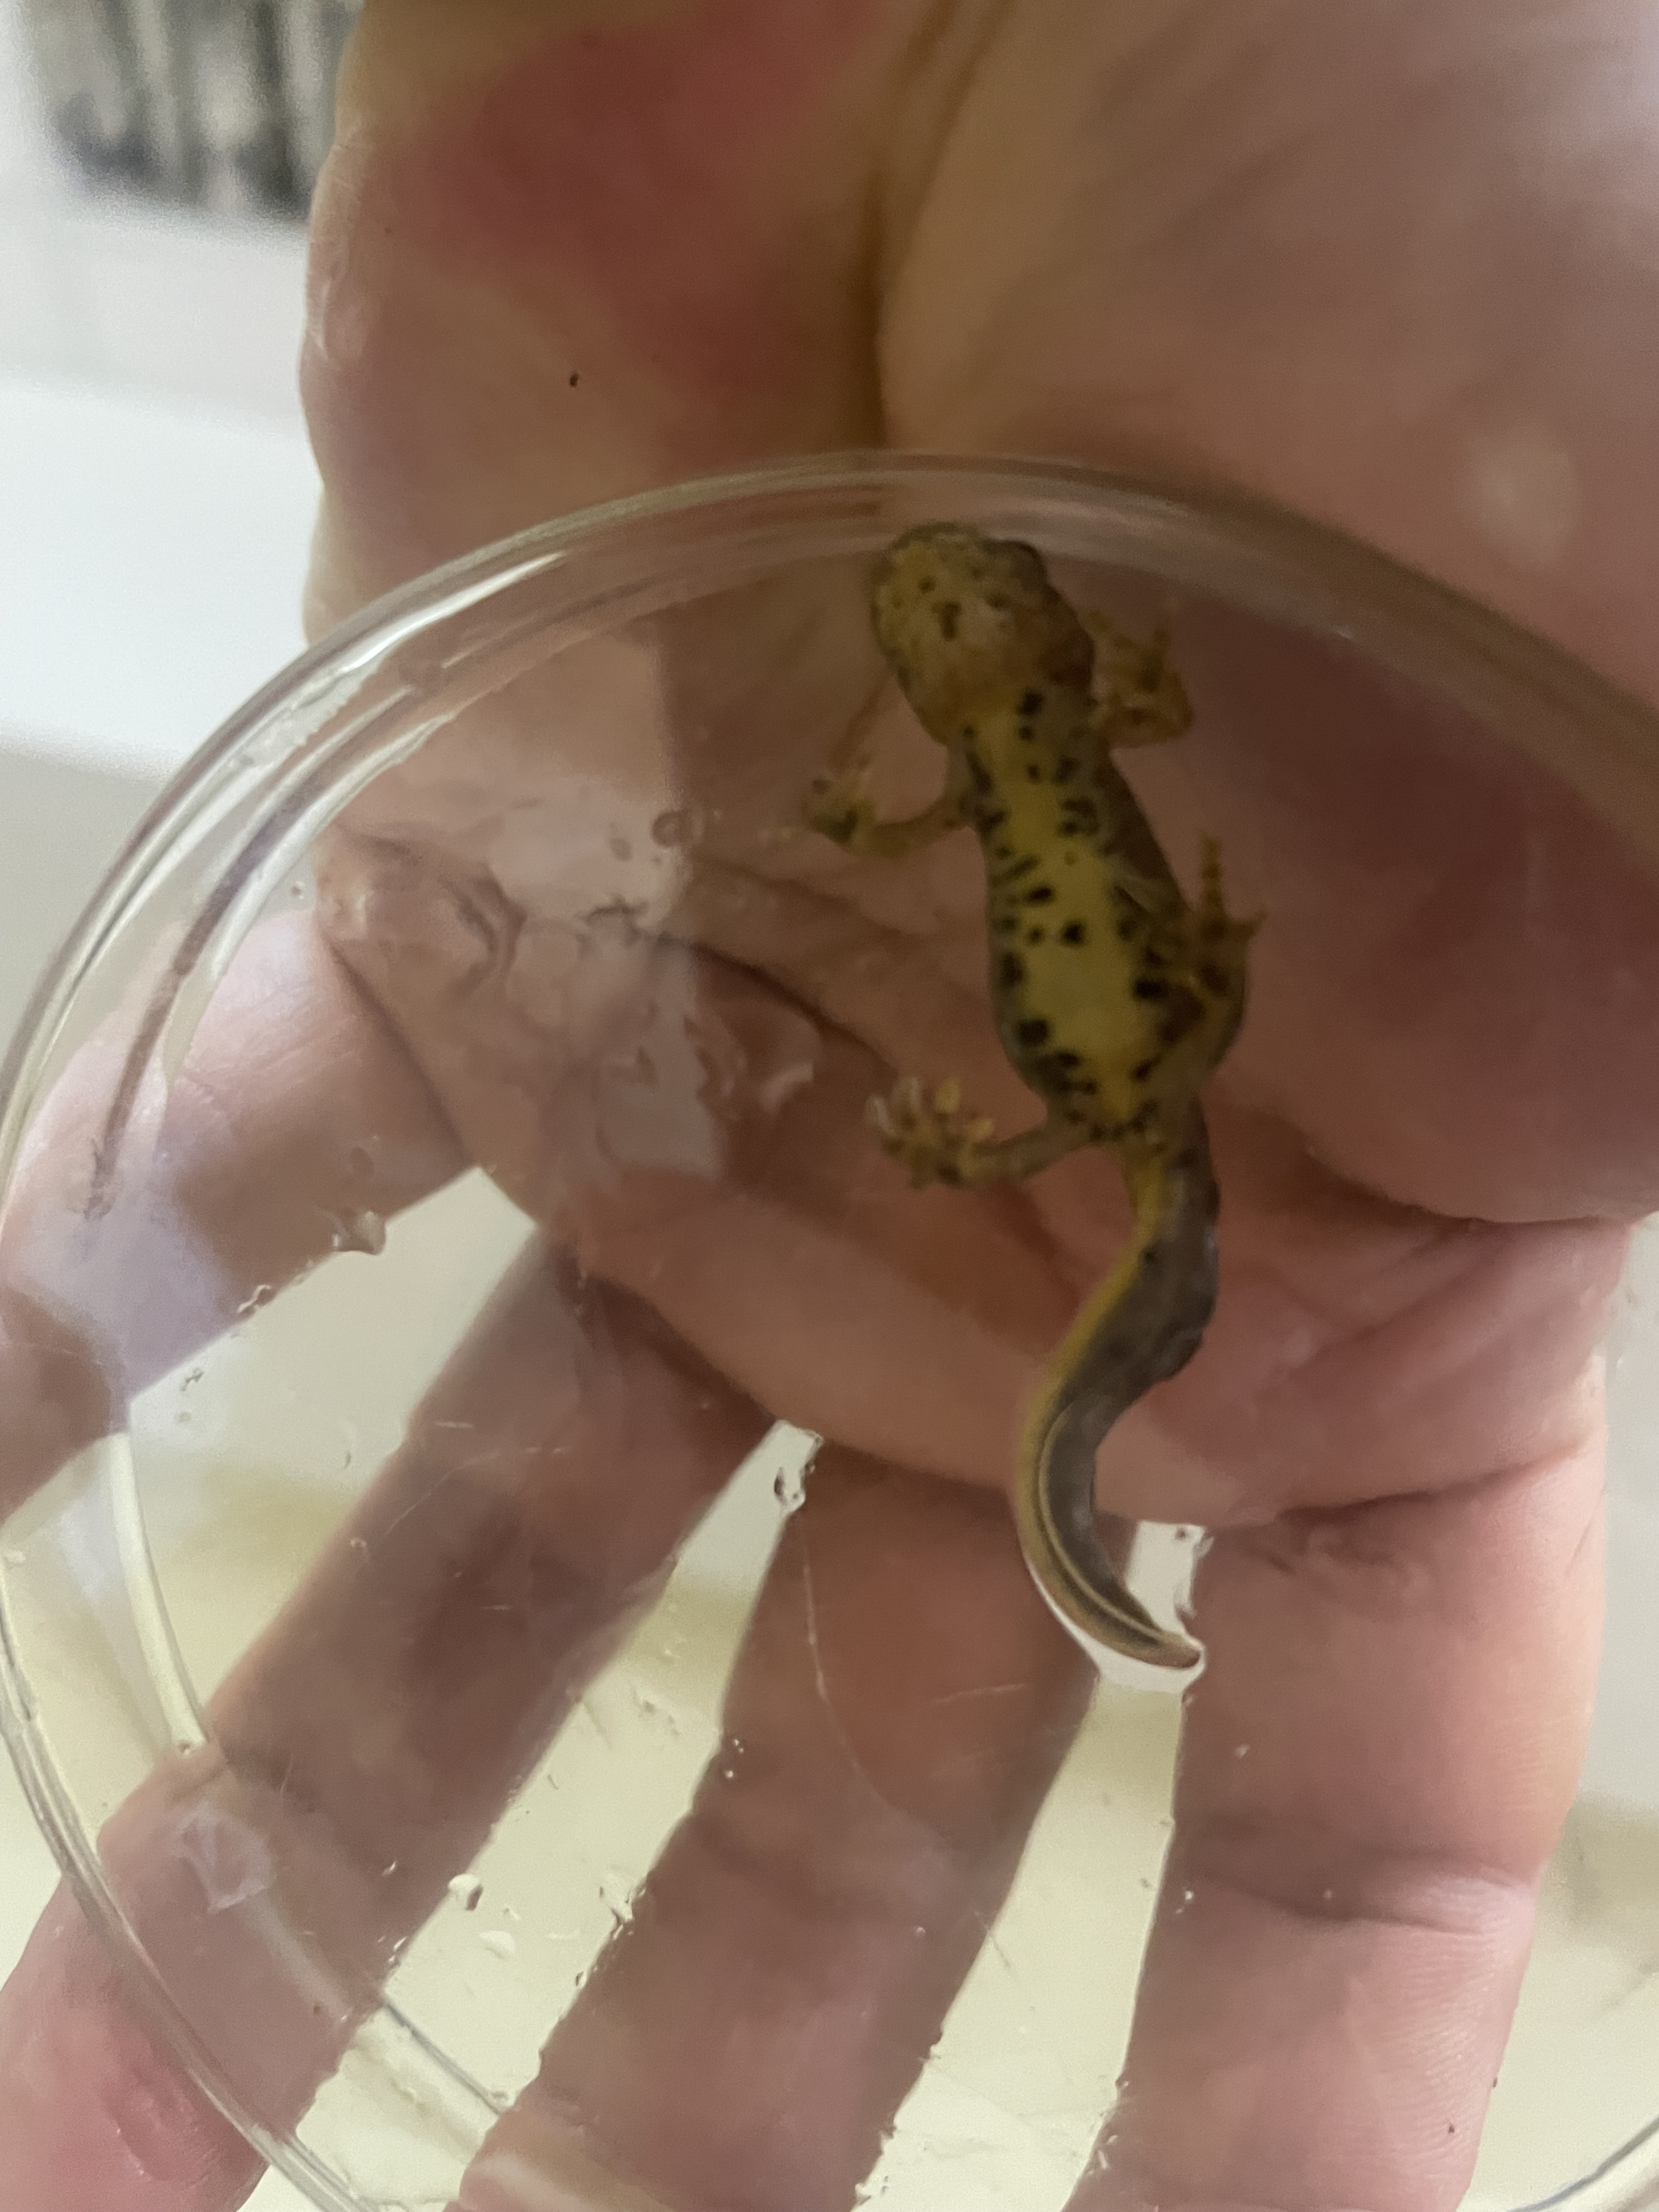Karelin_newt: (967, 752, 1195, 1106)
